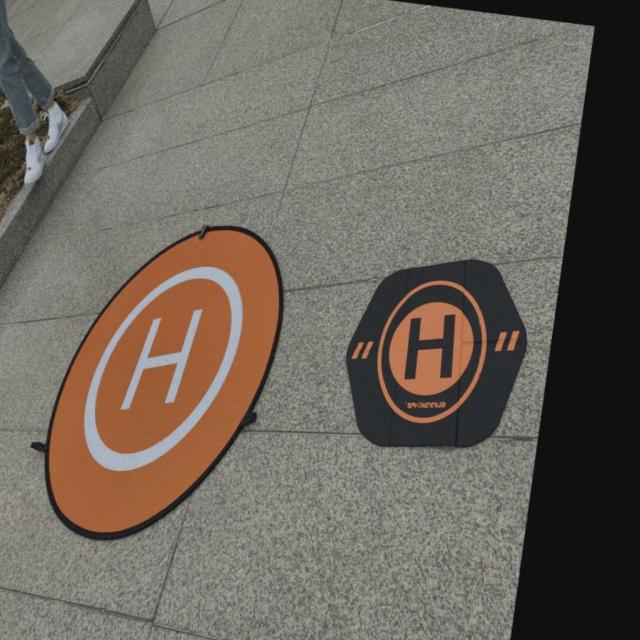helipad: (78, 261, 248, 476), (371, 275, 490, 425)
